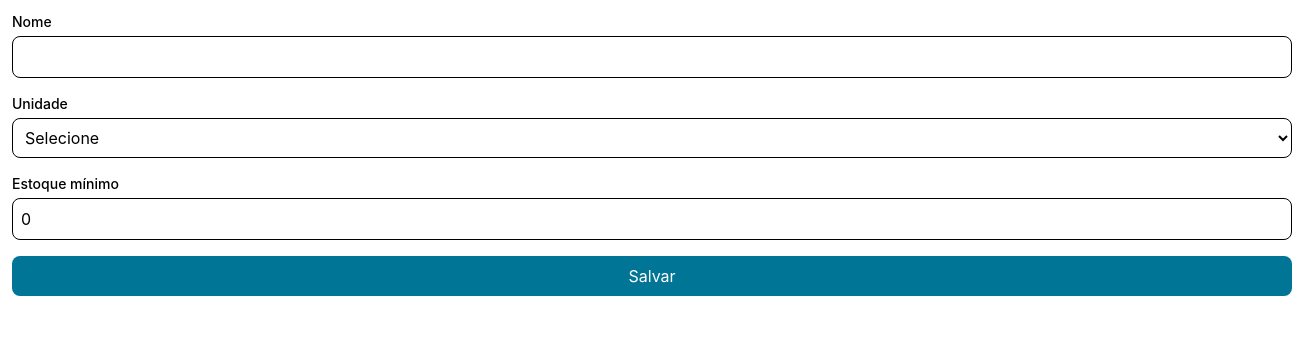
ItemForm › FE-07 exibe erro quando a unidade não é selecionada
Type "Luva" into the field labelled "Nome".
click(652, 57); type("Luva")  # box [12,36,1292,78]
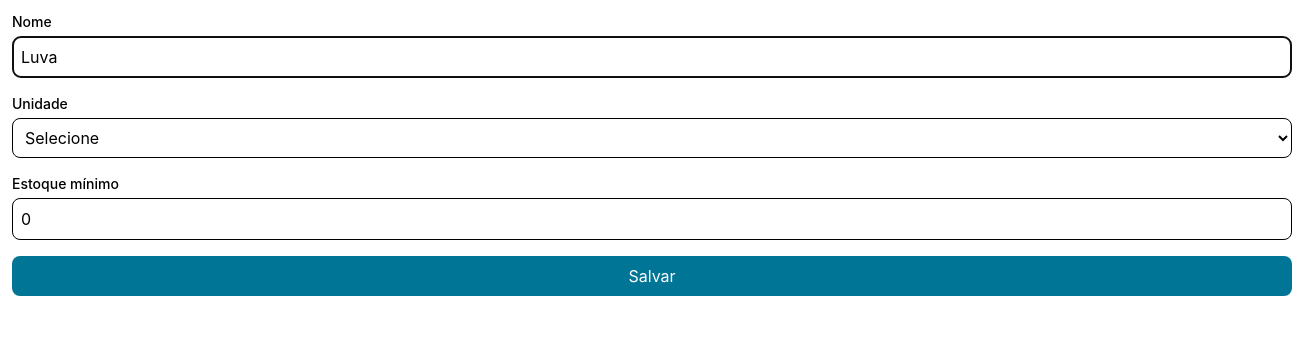
Click the button "Salvar".
click(652, 276)  # box [12,256,1292,296]
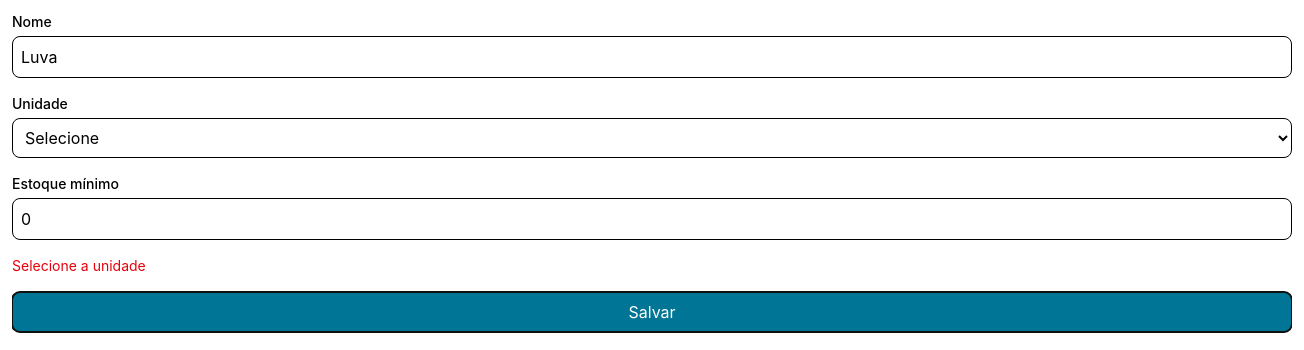
Expected: the message reads "Selecione a unidade", [12,257,146,274]
